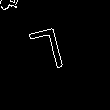L_S: (34, 27, 76, 83)
